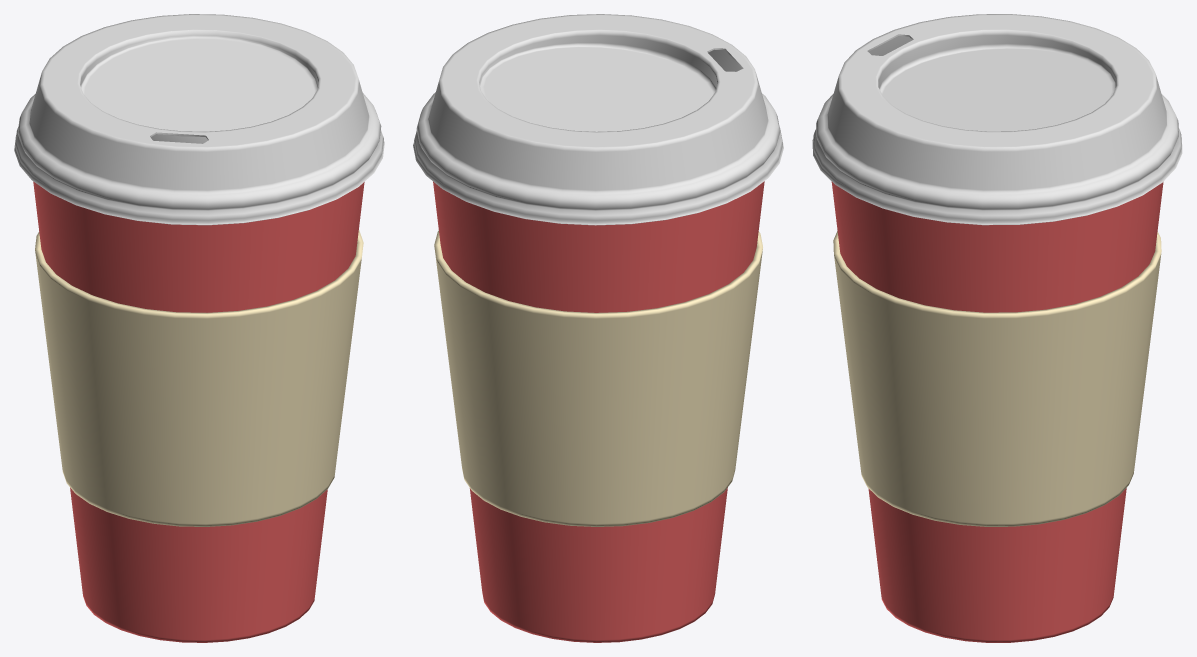
File: coffee_shop_cup.glb
The picture shows the model from 3 angles, left to right: view 1: azimuth 30°, elevation 25°; view 2: azimuth 150°, elevation 25°; view 3: azimuth 270°, elevation 25°; orthographic projection.
Visible parts, largest first — view 1: Sleeve_2, Lid_1, Cup_0; view 2: Sleeve_2, Lid_1, Cup_0; view 3: Sleeve_2, Lid_1, Cup_0.
Boxes of the visible parts, <box> form: Sleeve_2: <box>35,230,363,526</box>; Lid_1: <box>14,14,384,225</box>; Cup_0: <box>33,181,364,642</box>; Sleeve_2: <box>434,230,762,526</box>; Lid_1: <box>413,14,783,225</box>; Cup_0: <box>433,181,764,642</box>; Sleeve_2: <box>833,231,1161,526</box>; Lid_1: <box>812,14,1182,225</box>; Cup_0: <box>831,181,1163,642</box>.
Bounding box in the file's own units: 0.1005 × 0.1537 × 0.1005.
